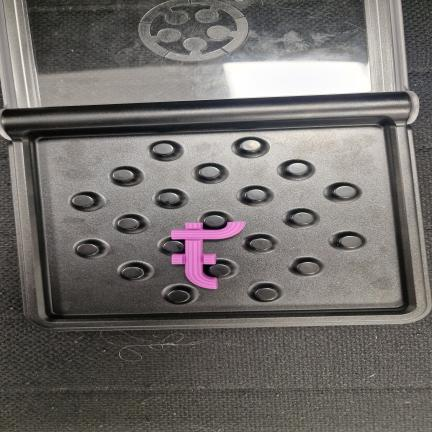H_Purple: (171, 222, 245, 289)
board: (1, 92, 431, 330)
hinge: (0, 99, 410, 132)
pin: (333, 185, 357, 199), (338, 235, 362, 249), (296, 261, 320, 275), (254, 287, 278, 301), (286, 162, 309, 176), (167, 289, 190, 303), (204, 215, 226, 229), (239, 139, 262, 152), (291, 212, 314, 225), (249, 238, 273, 250), (152, 143, 174, 156), (112, 169, 134, 182), (158, 192, 180, 205), (77, 243, 99, 256), (122, 266, 144, 279), (209, 264, 231, 277), (244, 189, 267, 201), (199, 166, 220, 179), (72, 195, 94, 207), (118, 218, 139, 230), (163, 241, 184, 253)
